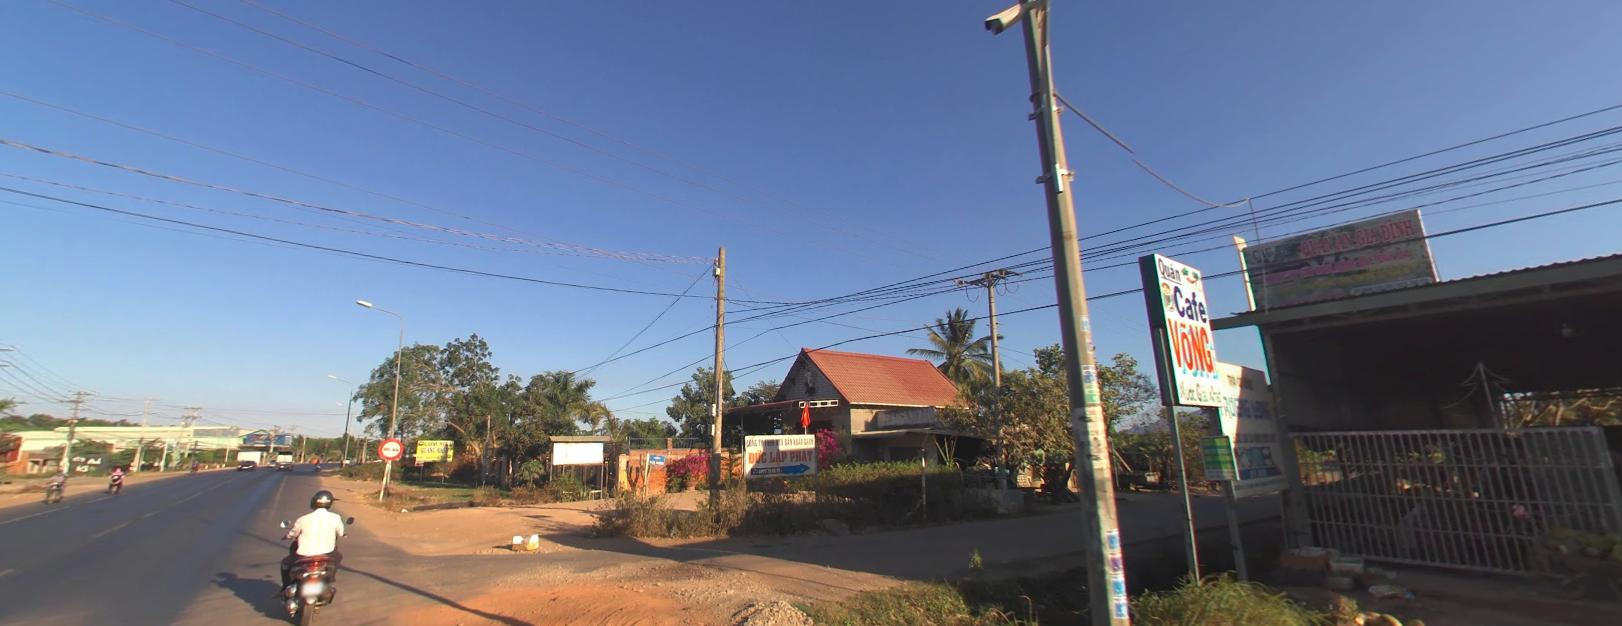Cam con lai: (378, 437, 402, 458)
